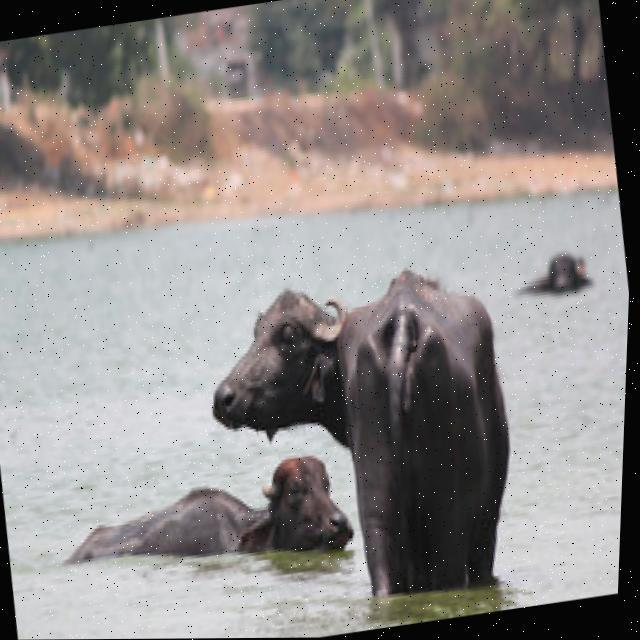Buffalo: (188, 253, 541, 622)
